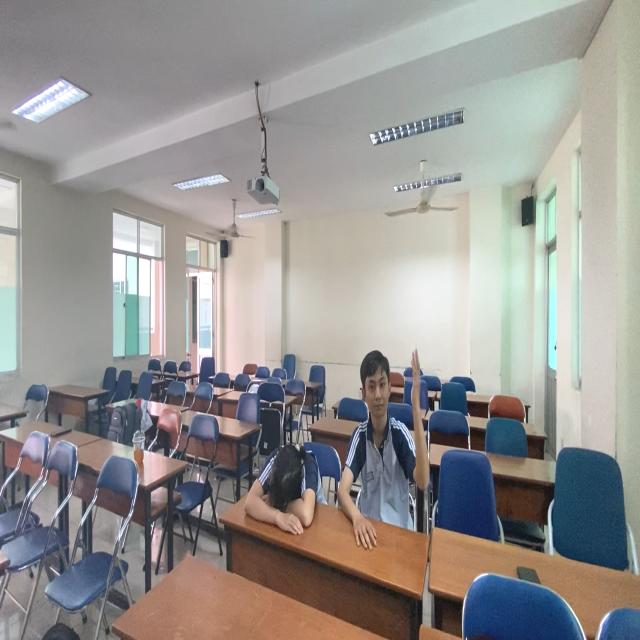raise_hand: (336, 341, 430, 537)
sleep: (243, 433, 327, 531)
